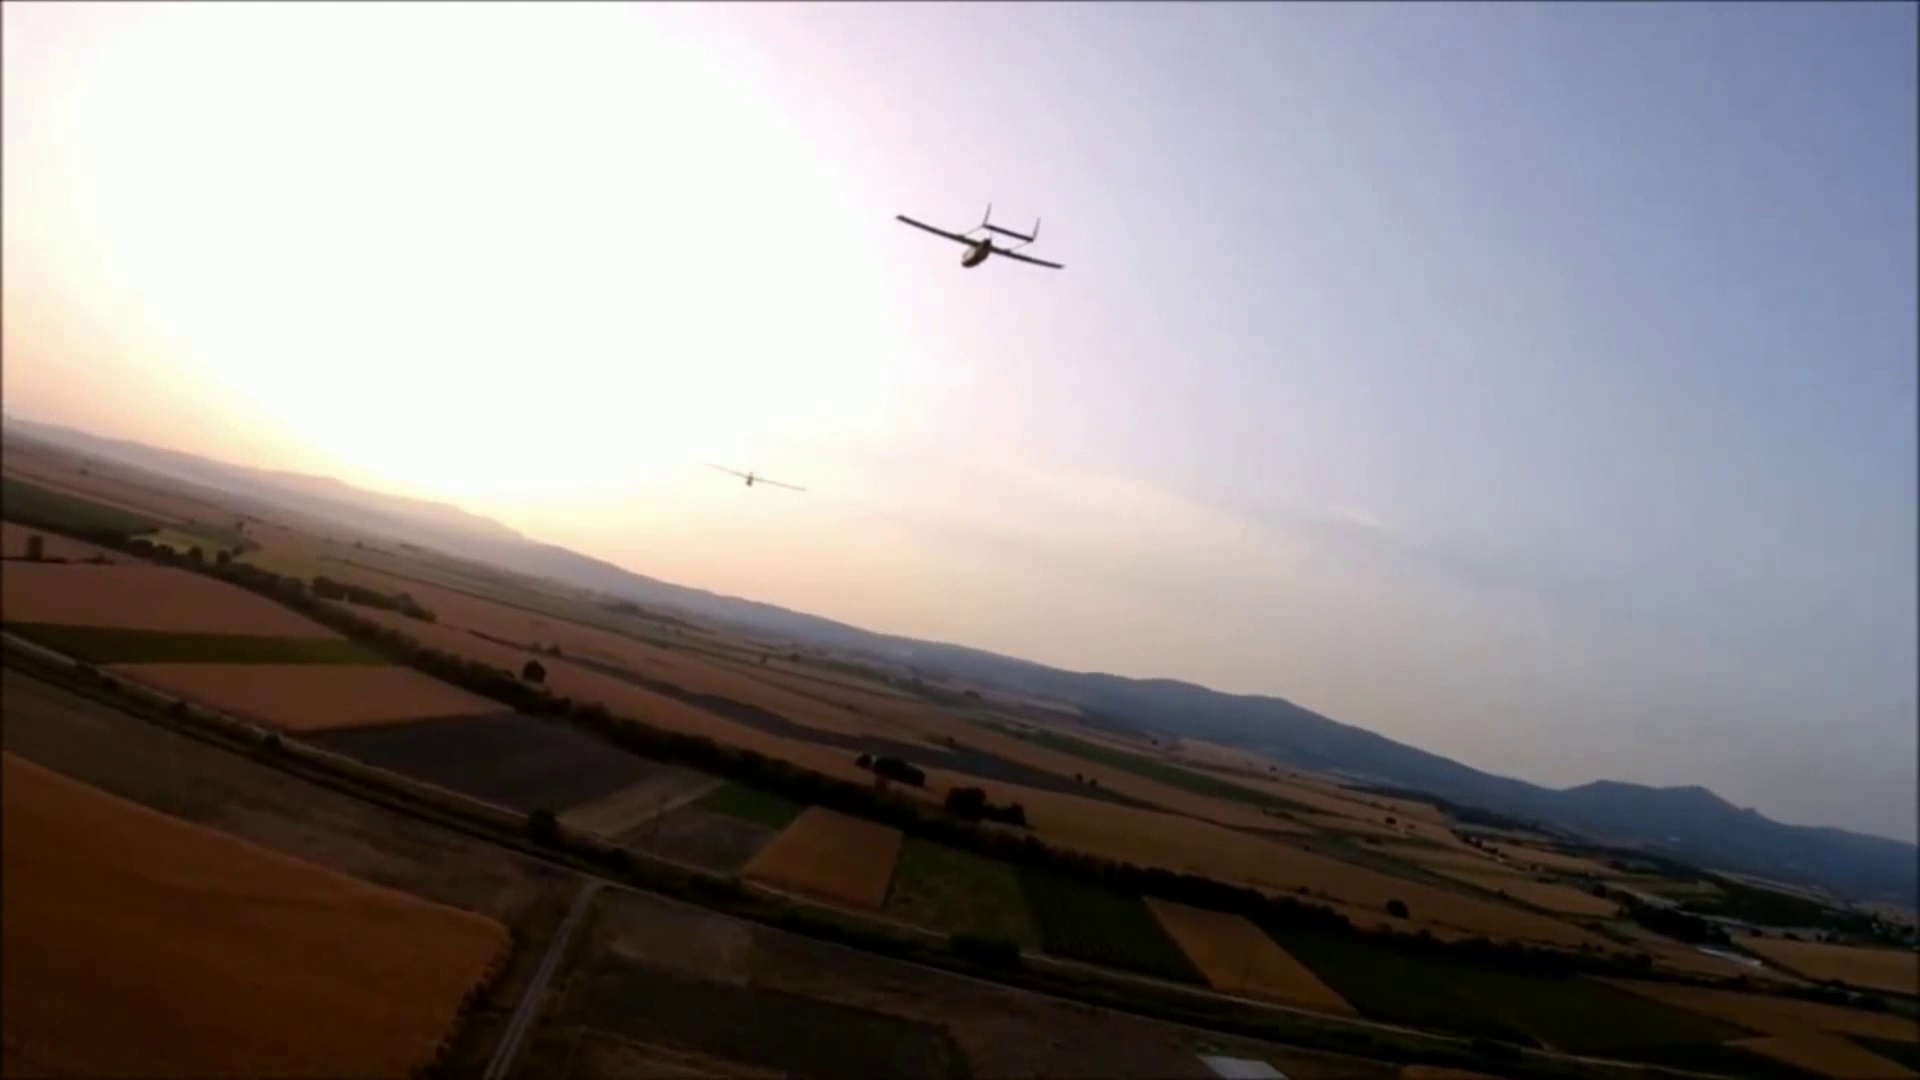airplane: (892, 208, 1066, 274)
